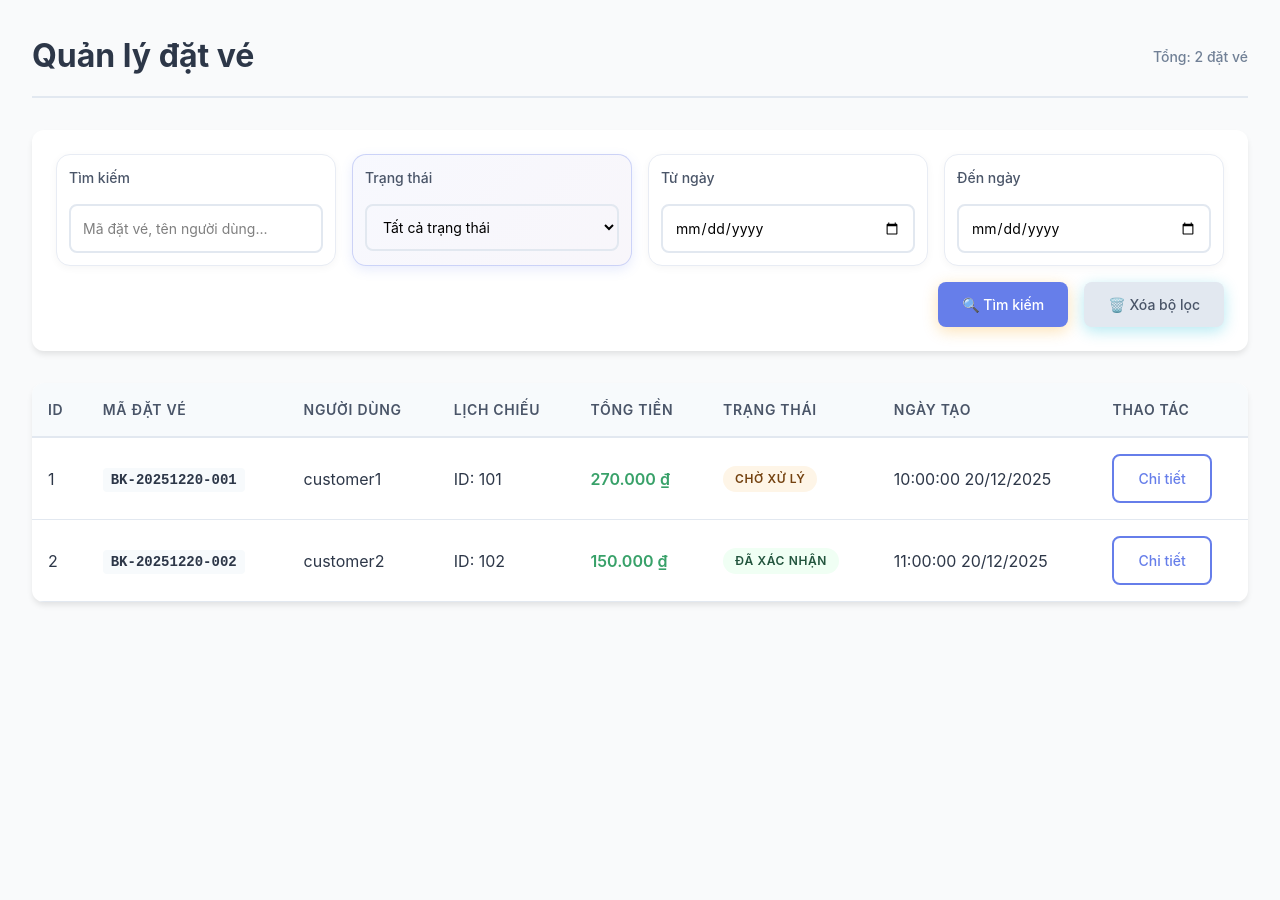
AdminBookingManagement › opens booking details modal when clicking details button
The width and height of the screenshot is (1280, 900).
Expected: the text "BK-20251220-001" is shown, [103, 468, 245, 492]
Note: Click details button for first booking
Click the button "Chi tiết" in the row of "BK-20251220-001".
click(1162, 478)  # box [1112, 454, 1212, 503]
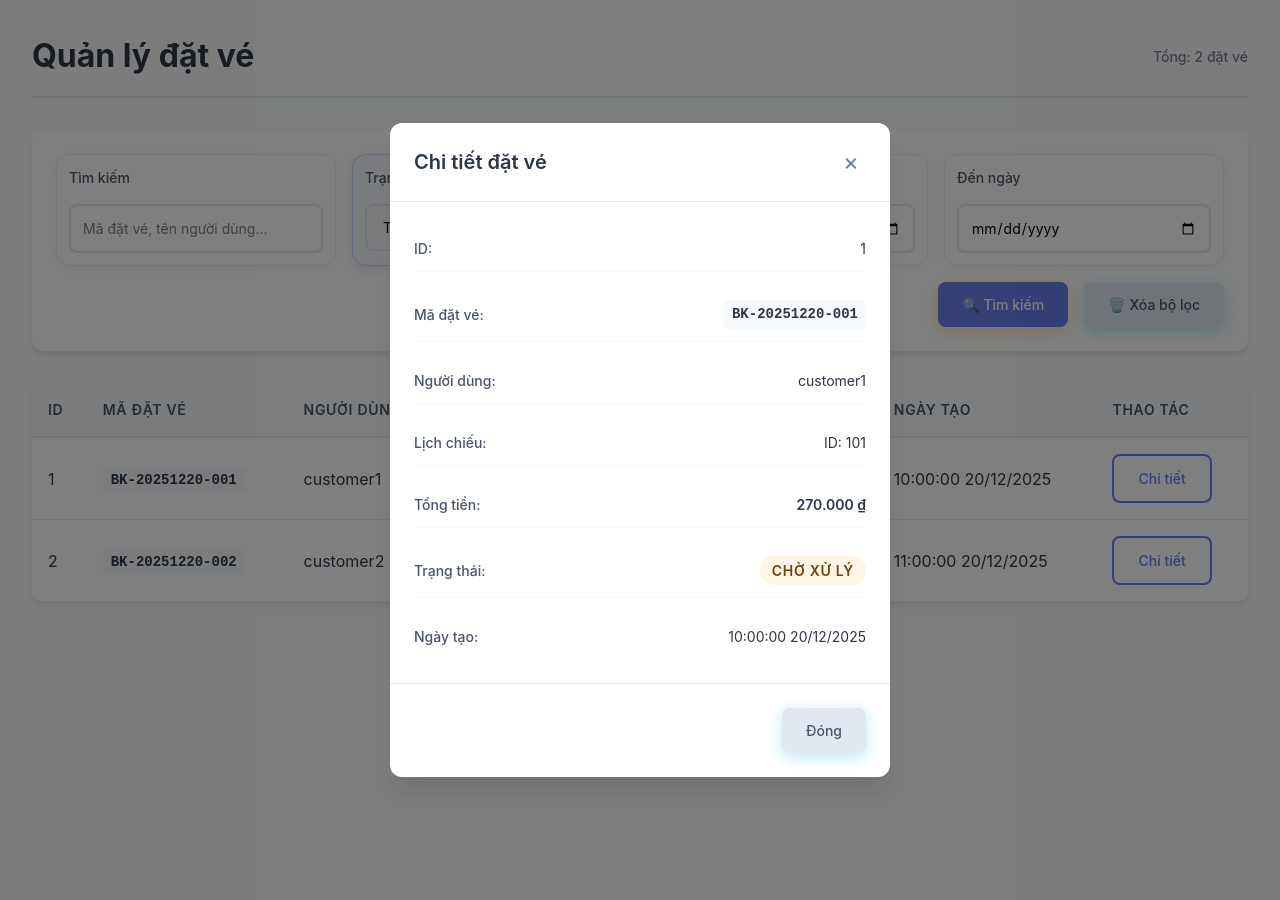
Now the heading "Chi tiết đặt vé" is shown, box [414, 147, 547, 177]
